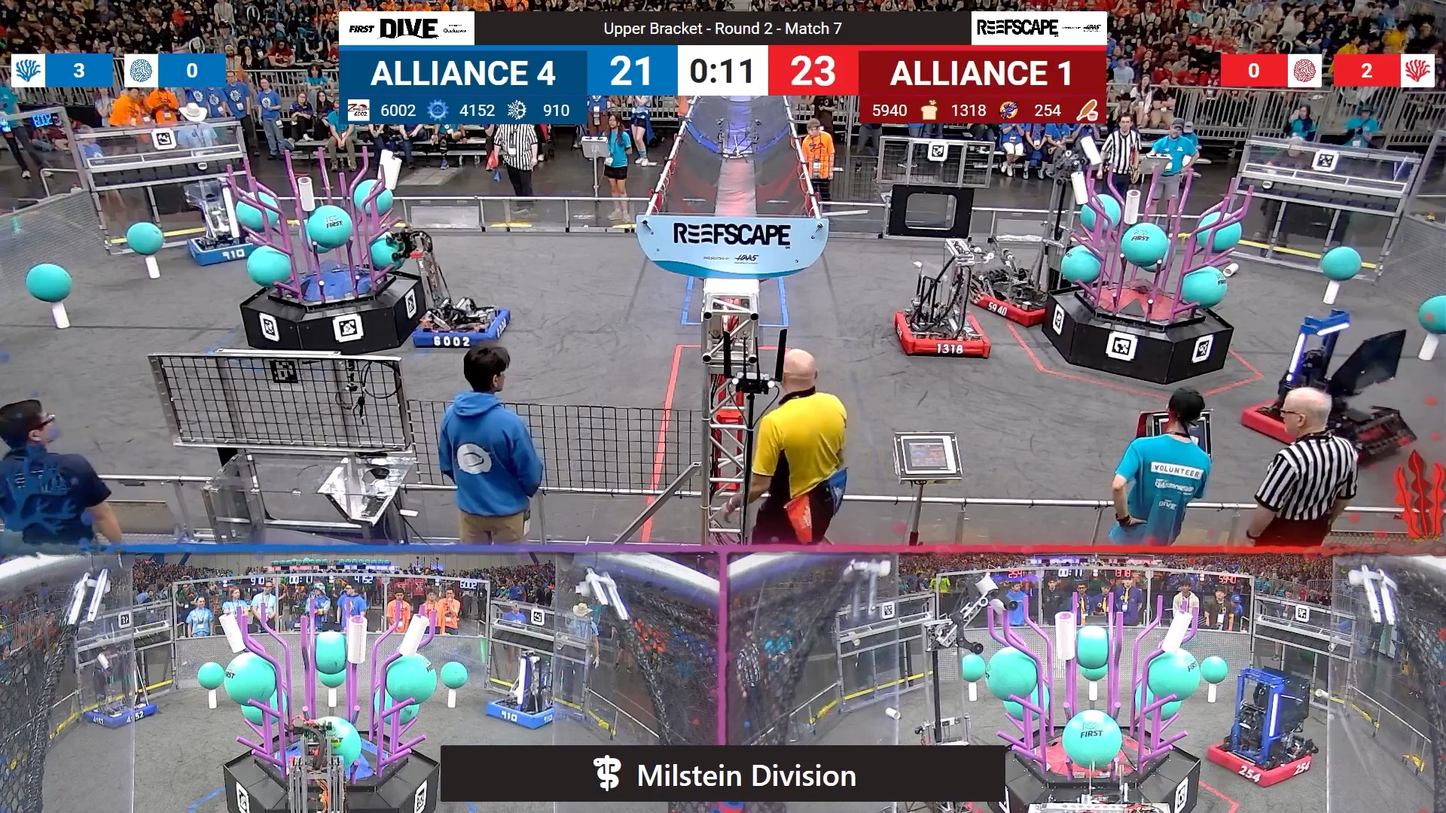bumpers: (1241, 393, 1414, 460), (892, 310, 1003, 368), (403, 294, 513, 351), (1205, 736, 1323, 788), (966, 286, 1060, 330), (181, 232, 273, 271), (482, 698, 567, 733), (81, 700, 165, 733)
